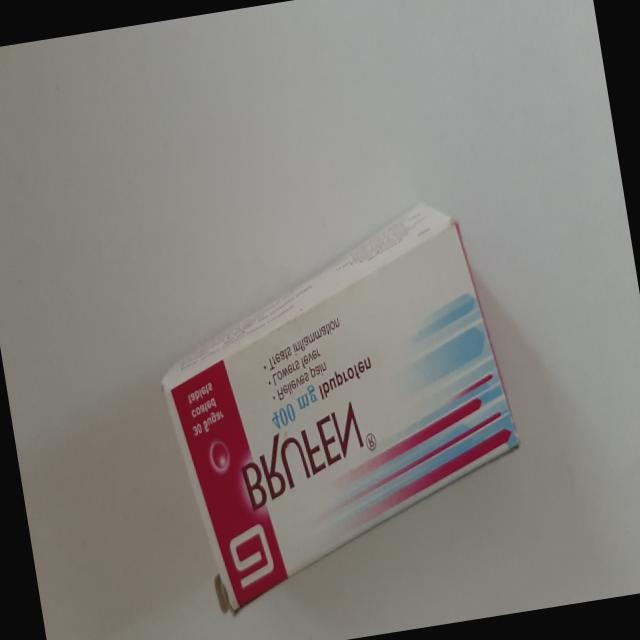medicine_packaging: (123, 150, 551, 640)
